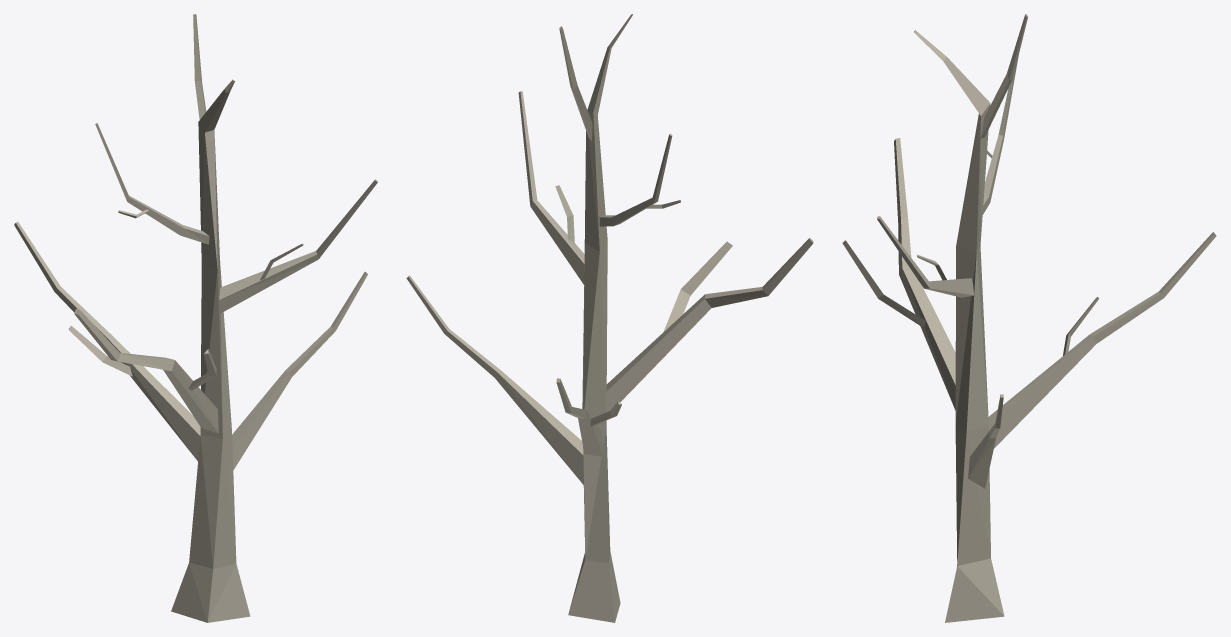
The model's file is GenericDead.glb.
3 renders of one model, left to right at view 1: azimuth 30°, elevation 25°; view 2: azimuth 150°, elevation 25°; view 3: azimuth 270°, elevation 25°, orthographic. The views are drawn at different scales.
Visible parts, largest first — view 1: Trunk; view 2: Trunk; view 3: Trunk.
Part boxes in pixels (x1,y1,x2,y2): Trunk: (14, 14, 377, 622); Trunk: (406, 14, 813, 622); Trunk: (842, 14, 1216, 622).
Bounding box in the file's own units: 13.83 × 22.25 × 12.57.
